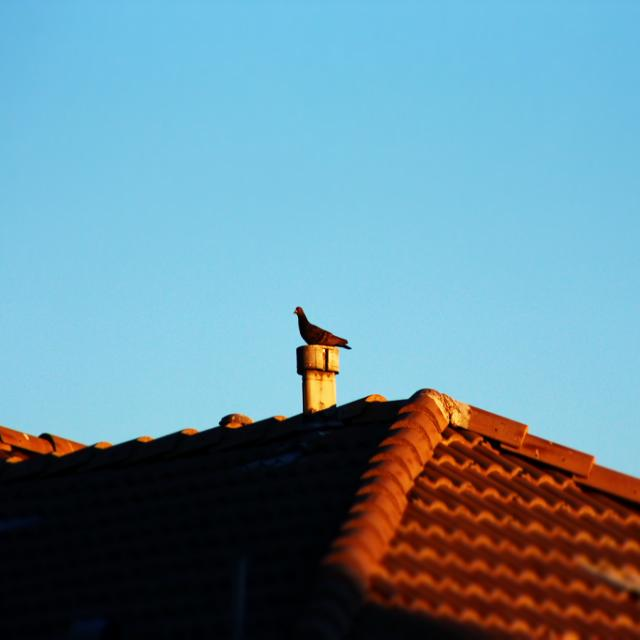bird: (291, 305, 352, 352)
